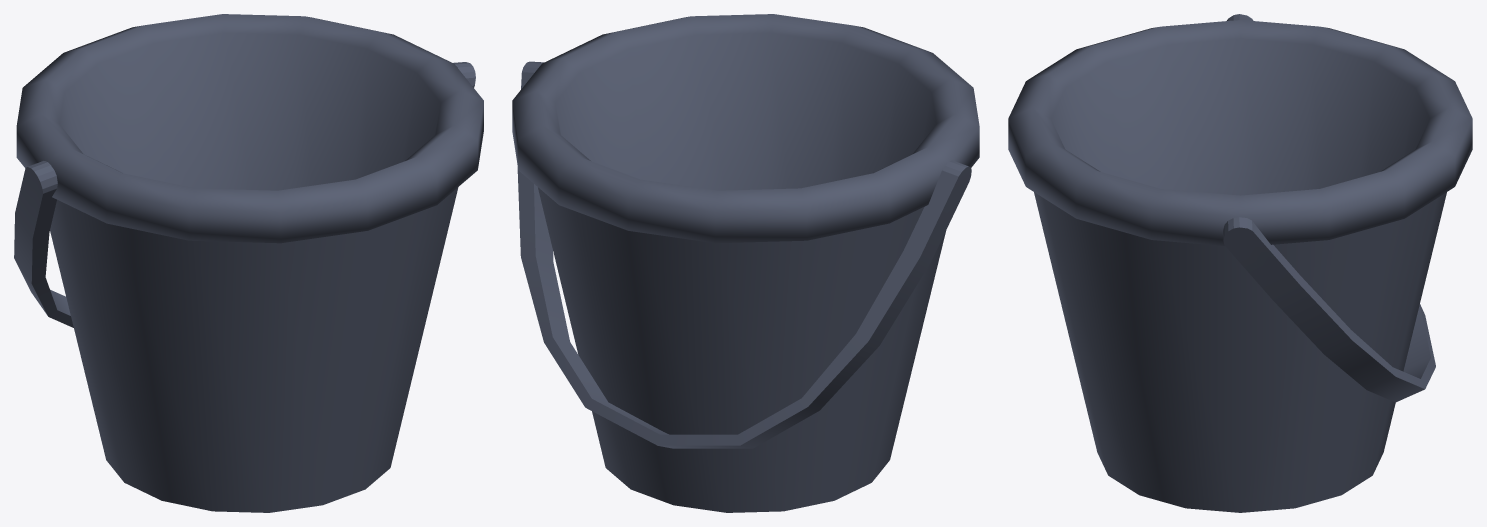
The model's file is Bucket.FBX.
The picture shows the model from 3 angles, left to right: view 1: azimuth 30°, elevation 25°; view 2: azimuth 150°, elevation 25°; view 3: azimuth 270°, elevation 25°; orthographic projection.
Parts seen in each view (by area): view 1: Bucket; view 2: Bucket; view 3: Bucket.
Boxes of the visible parts, bbox=[...] form: Bucket: bbox=[14, 14, 483, 512]; Bucket: bbox=[512, 14, 979, 512]; Bucket: bbox=[1008, 14, 1472, 512].
Bounding box in the file's own units: 47.46 × 36.1 × 44.09.
